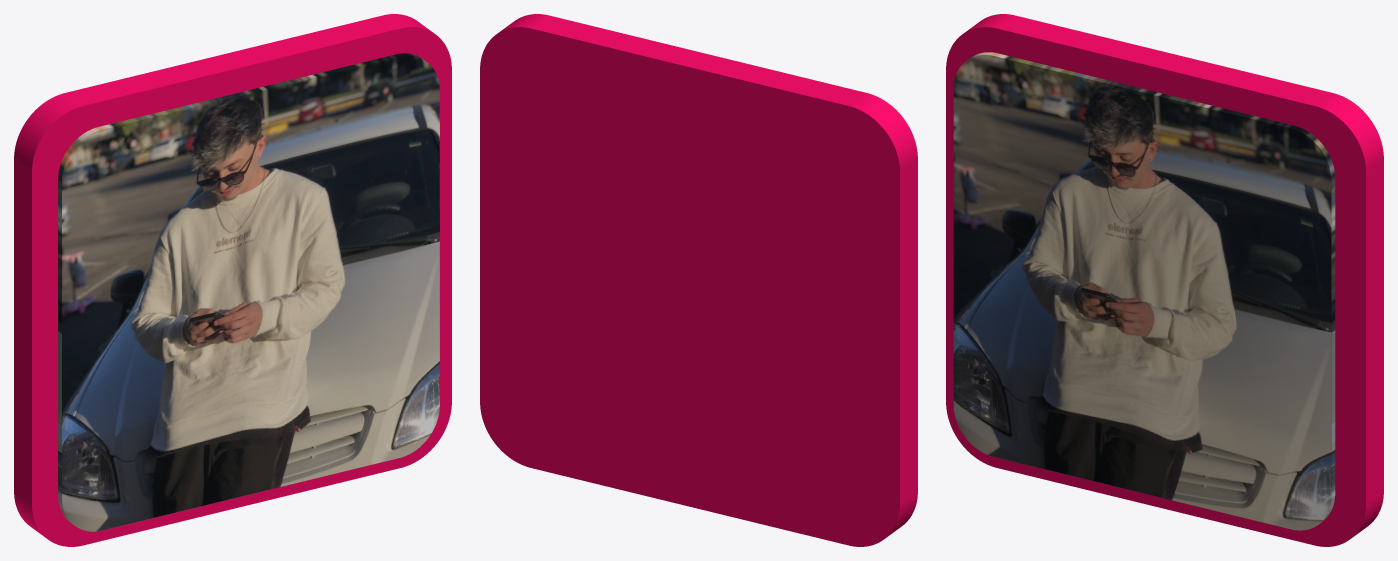
File: gradient_block.gltf
The picture shows the model from 3 angles, left to right: view 1: azimuth 30°, elevation 25°; view 2: azimuth 150°, elevation 25°; view 3: azimuth 330°, elevation 25°; orthographic projection.
Parts seen in each view (by area): view 1: Plano.003, Plano; view 2: Plano; view 3: Plano.003, Plano.
Part boxes in pixels (x1,y1,x2,y2): Plano.003: (58,53,439,531); Plano: (14,14,451,546); Plano: (480,14,917,546); Plano.003: (953,52,1335,530); Plano: (946,14,1383,546).
Bounding box in the file's own units: 4 × 4 × 0.4806.
Materials: 2 (1 with a texture image).
